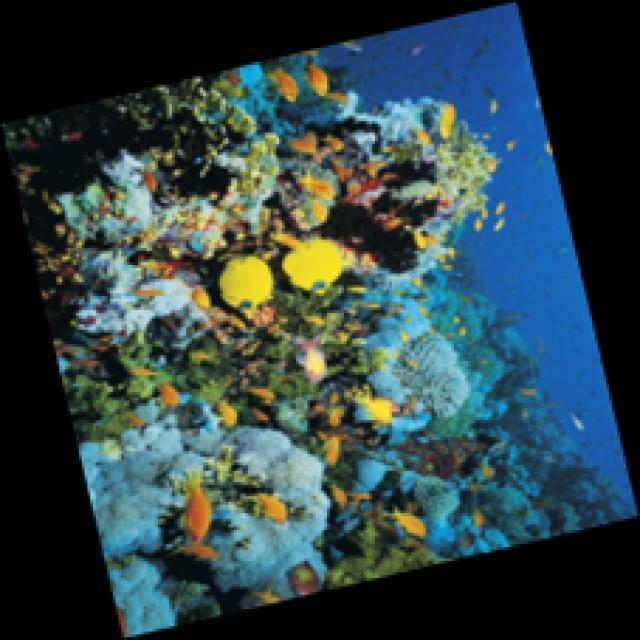Bleached Coral: (79, 398, 348, 590), (357, 324, 526, 431)
Healthy Coral: (256, 84, 536, 270)
